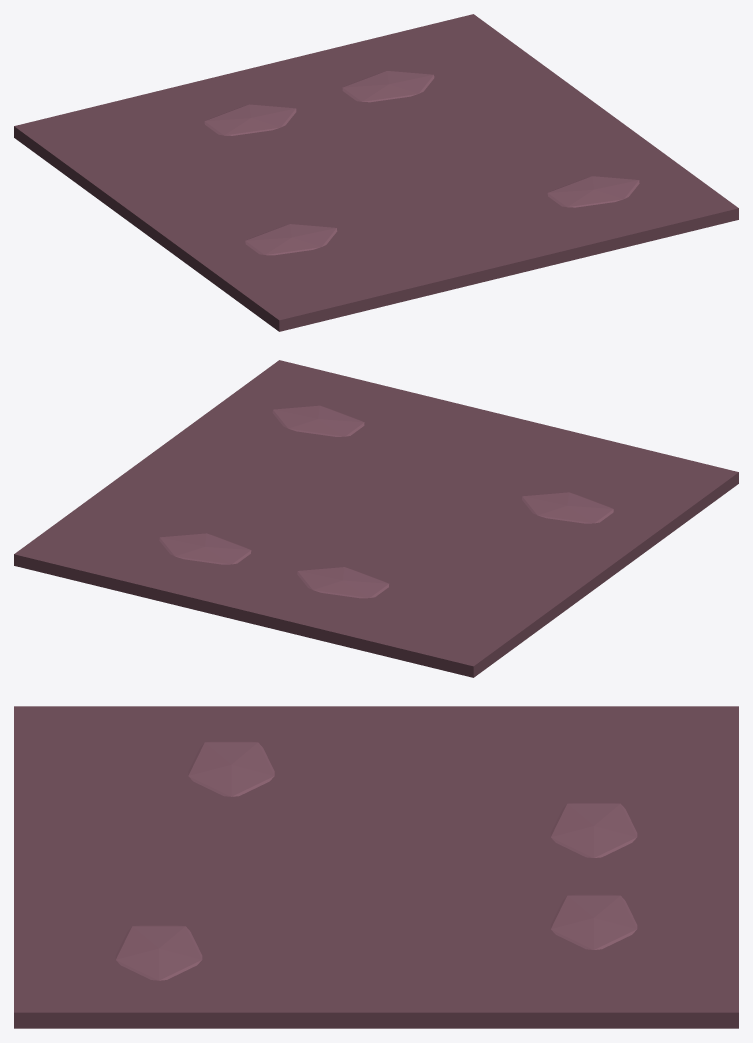
The model's file is SH10_L05_Ground.fbx.
3 views of the same model, one above another, from view 1: azimuth 30°, elevation 25°; view 2: azimuth 150°, elevation 25°; view 3: azimuth 270°, elevation 25° (orthographic). The views are drawn at different scales.
Parts seen in each view (by area): view 1: SH10_L05_Ground; view 2: SH10_L05_Ground; view 3: SH10_L05_Ground.
Part boxes in pixels (<box>): SH10_L05_Ground: <box>14,14,738,331</box>; SH10_L05_Ground: <box>14,360,738,677</box>; SH10_L05_Ground: <box>14,706,738,1028</box>.
Size of the model in its own units: 1000 by 28.5 by 1000.
